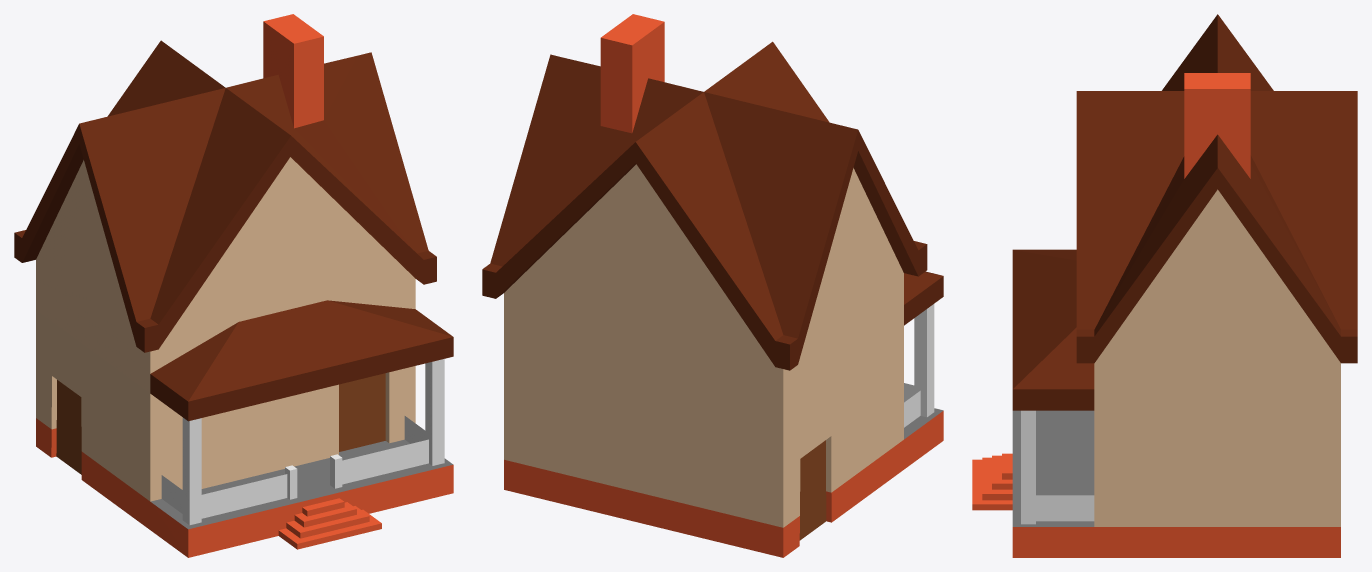
The model's file is Small_House_00.fbx.
The picture shows the model from 3 angles, left to right: view 1: azimuth 30°, elevation 25°; view 2: azimuth 150°, elevation 25°; view 3: azimuth 270°, elevation 25°; orthographic projection. The views are drawn at different scales.
Visible parts, largest first — view 1: Cube, Plane; view 2: Cube, Plane; view 3: Cube, Plane.
Part boxes in pixels (x1,y1,x2,y2): Cube: [14, 14, 453, 557]; Plane: [161, 416, 428, 518]; Cube: [482, 14, 943, 557]; Plane: [904, 383, 920, 427]; Cube: [972, 14, 1357, 557]; Plane: [1036, 495, 1094, 521].
Bounding box in the file's own units: 1102 × 1479 × 1166.
